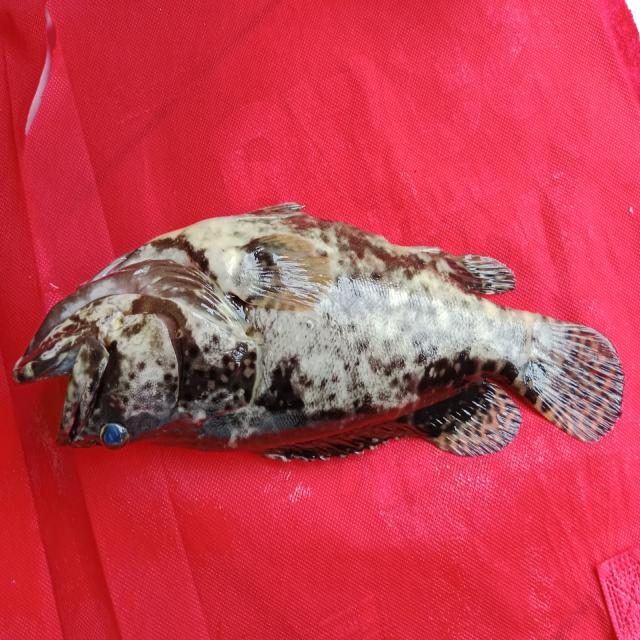ikan: (8, 164, 630, 480)
